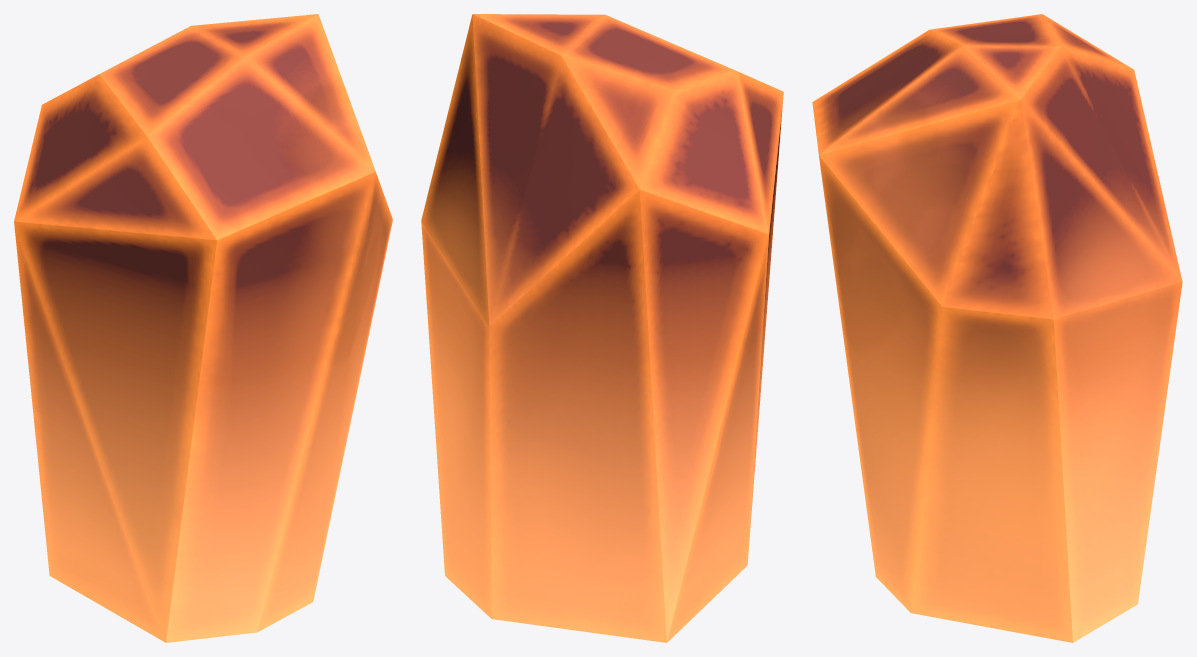
The model's file is crystal_piece_003.fbx.
3 views of the same model, side by side, from view 1: azimuth 30°, elevation 25°; view 2: azimuth 150°, elevation 25°; view 3: azimuth 270°, elevation 25° (orthographic).
Parts seen in each view (by area): view 1: crystal_piece_003; view 2: crystal_piece_003; view 3: crystal_piece_003.
Part boxes in pixels (x1=…): crystal_piece_003: x1=14, y1=14, x2=392, y2=642; crystal_piece_003: x1=421, y1=14, x2=783, y2=642; crystal_piece_003: x1=812, y1=14, x2=1182, y2=642.
Bounding box in the file's own units: 0.4903 × 0.7536 × 0.4632.
